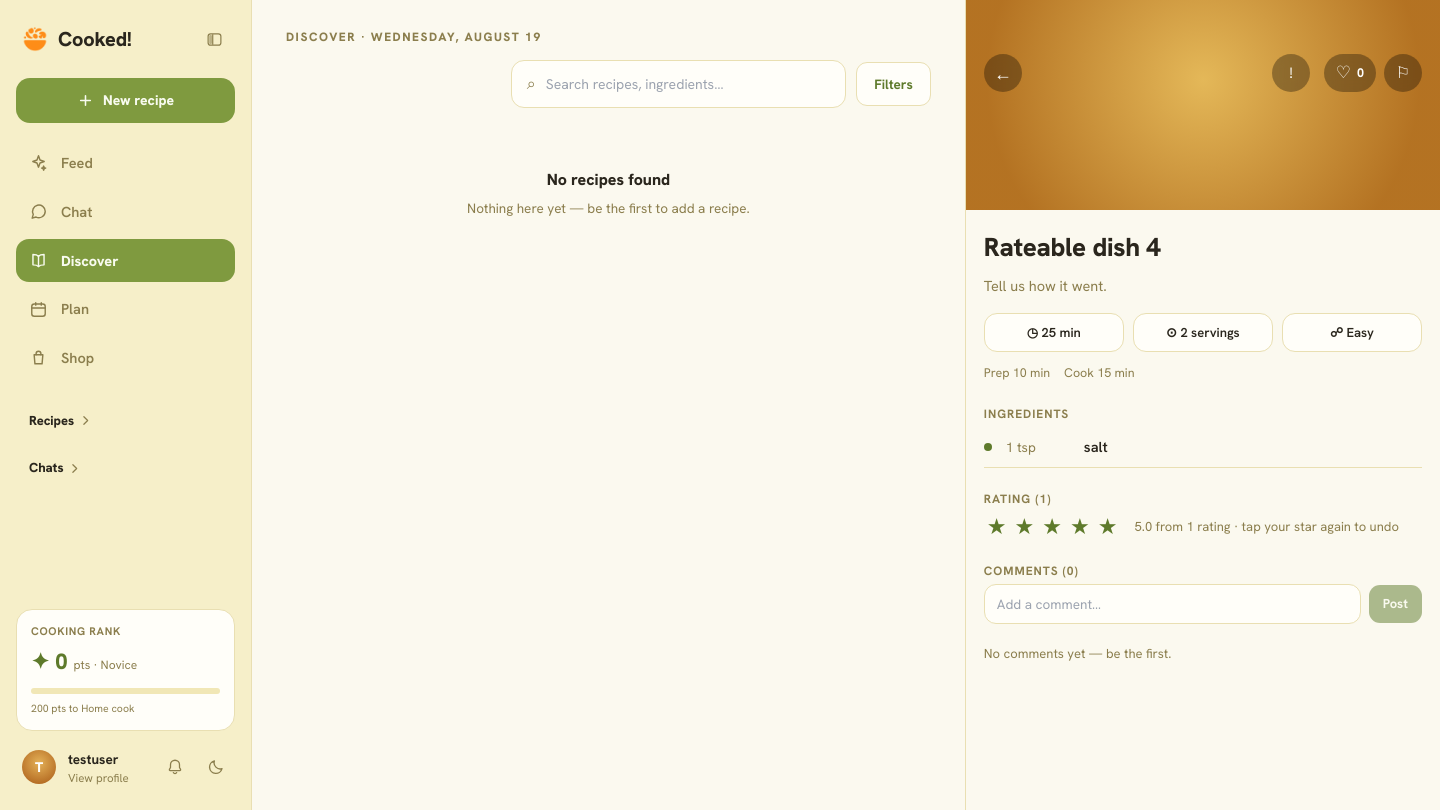
the rating control › retracts when the already-picked star is tapped again — and takes only the rating (KAN-12)
Click the button named "Remove your 5-star rating" at (1108, 527), box [1095, 514, 1120, 540]
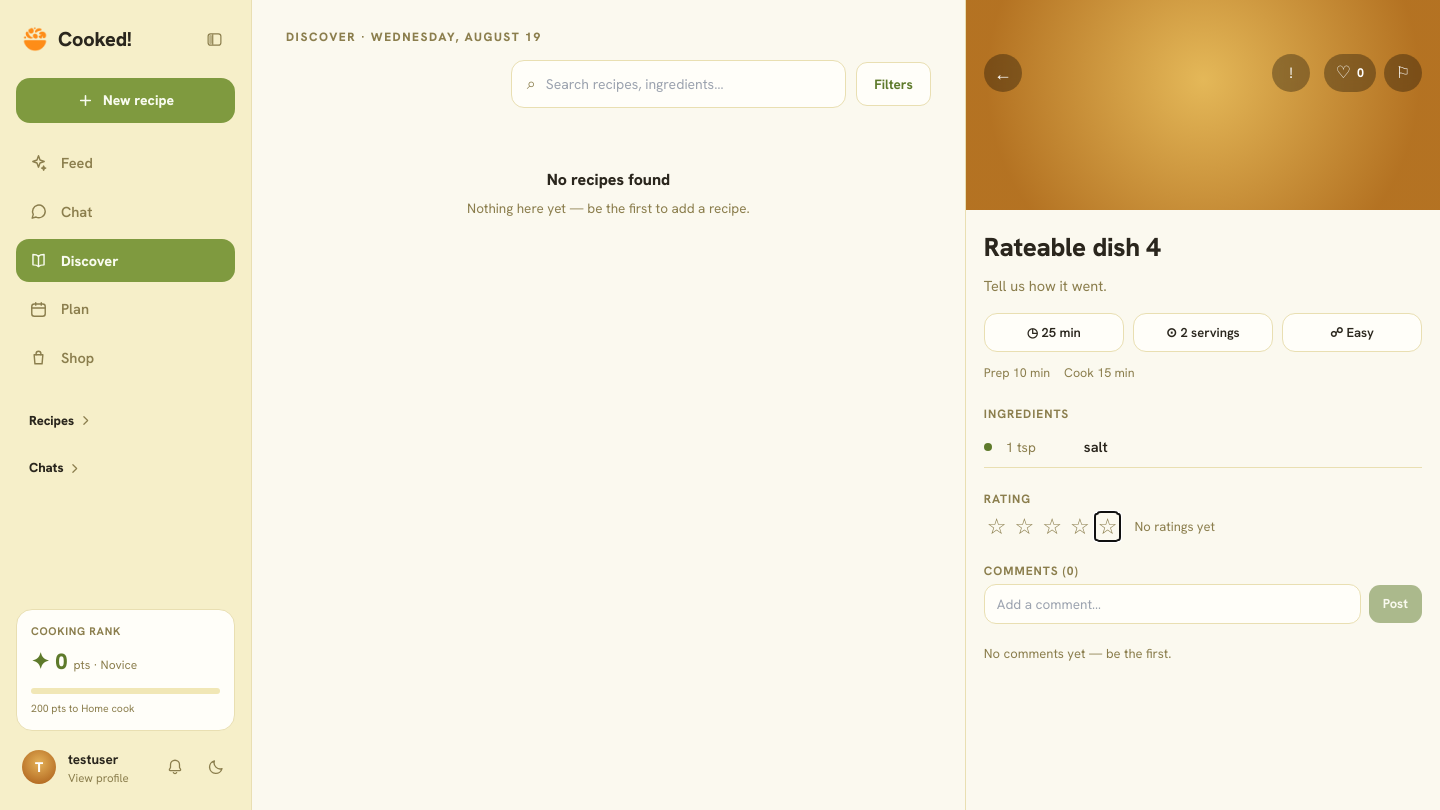
Expected: the text "No ratings yet" is shown, [1134, 517, 1215, 536]
